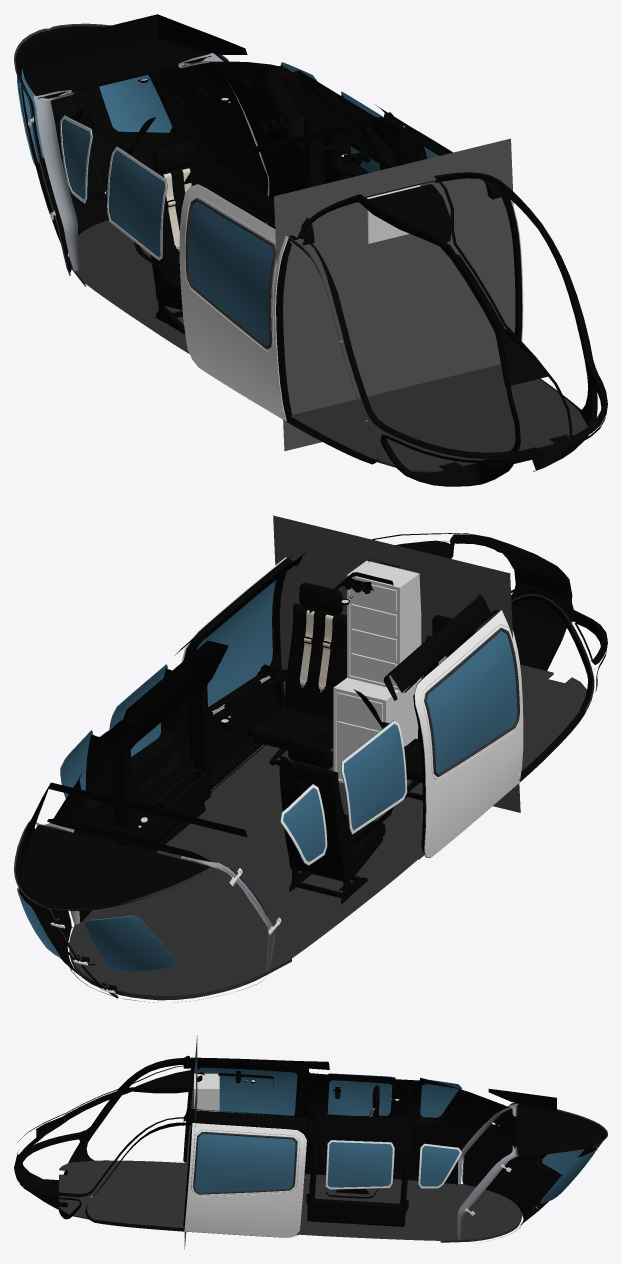
The model's file is HelicopterAssembled.fbx.
3 renders of one model, top to bottom at view 1: azimuth 30°, elevation 25°; view 2: azimuth 150°, elevation 25°; view 3: azimuth 270°, elevation 25°, orthographic. The views are drawn at different scales.
Parts seen in each view (by area): view 1: Helicopter_Plane, Chair_Airbus_H145.003, Cabinet_(Blockout)_Cube.001; view 2: Helicopter_Plane, Cabinet_(Blockout)_Cube.001, Chair_Airbus_H145.002, Chair_Airbus_H145.003, Chair_Airbus_H145.001; view 3: Helicopter_Plane, Cabinet_(Blockout)_Cube.001, Chair_Airbus_H145.003.
Boxes of the visible parts, x1,y1,x2,y2 form: Helicopter_Plane: [14, 14, 607, 486]; Chair_Airbus_H145.003: [151, 140, 196, 333]; Cabinet_(Blockout)_Cube.001: [367, 185, 420, 243]; Helicopter_Plane: [14, 515, 607, 1002]; Cabinet_(Blockout)_Cube.001: [333, 560, 421, 783]; Chair_Airbus_H145.002: [250, 582, 346, 769]; Chair_Airbus_H145.003: [279, 737, 385, 904]; Chair_Airbus_H145.001: [404, 615, 475, 800]; Helicopter_Plane: [14, 1035, 607, 1249]; Cabinet_(Blockout)_Cube.001: [194, 1073, 219, 1111]; Chair_Airbus_H145.003: [318, 1085, 379, 1194].
Bounding box in the file's own units: 169 × 164 × 578.
